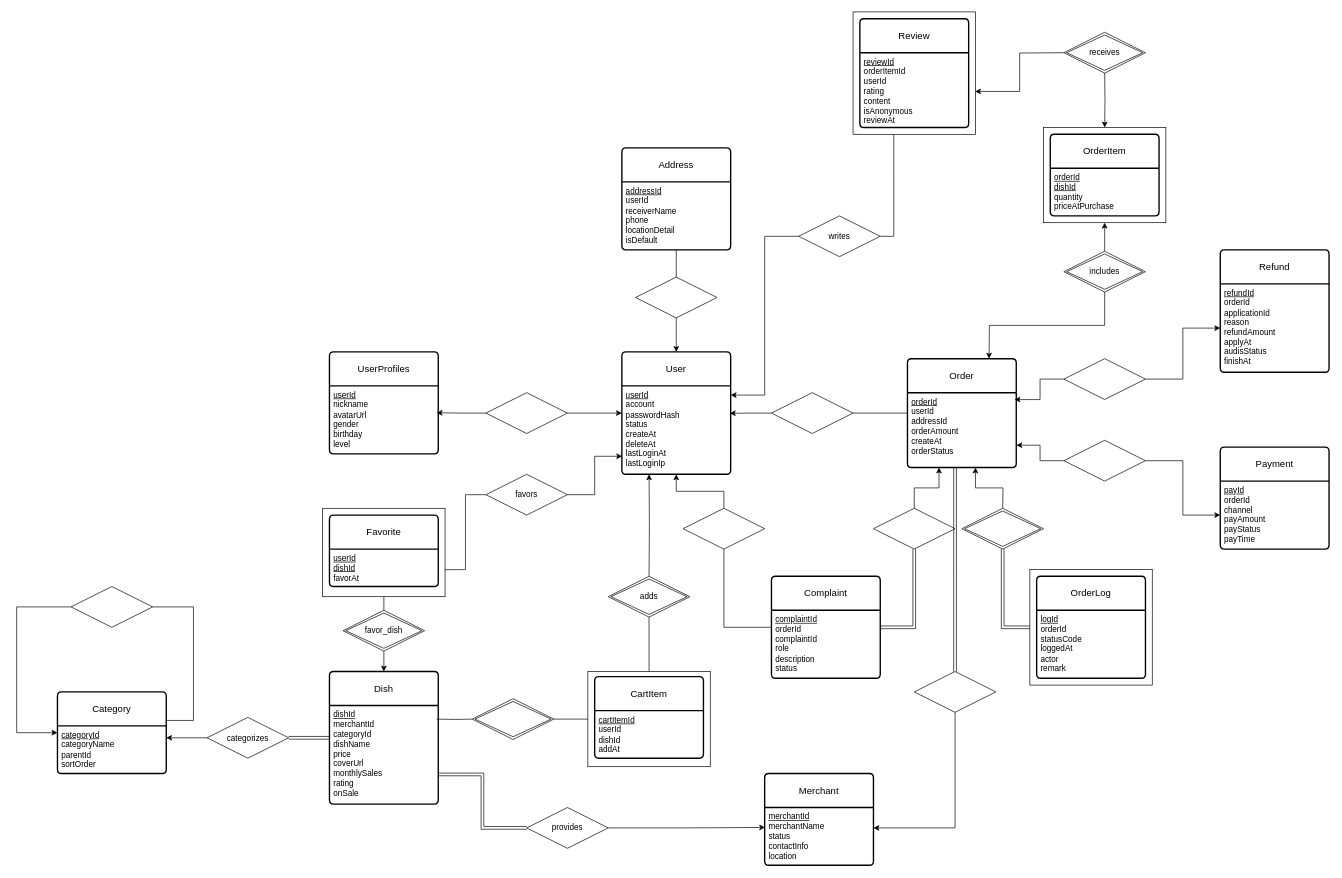
This 1342x878 diagram has some shape labels left out. Each missing label, with the centre of its shape:
dish_cart: the point at 513,719
files: the point at 723,528
has: the point at 526,413
logs: the point at 1002,528
may_have: the point at 1104,379
merchant_order: the point at 955,691
owns: the point at 676,297
paid_by: the point at 1104,460
places: the point at 812,413
subcategorizes: the point at 111,606
targets: the point at 914,528
